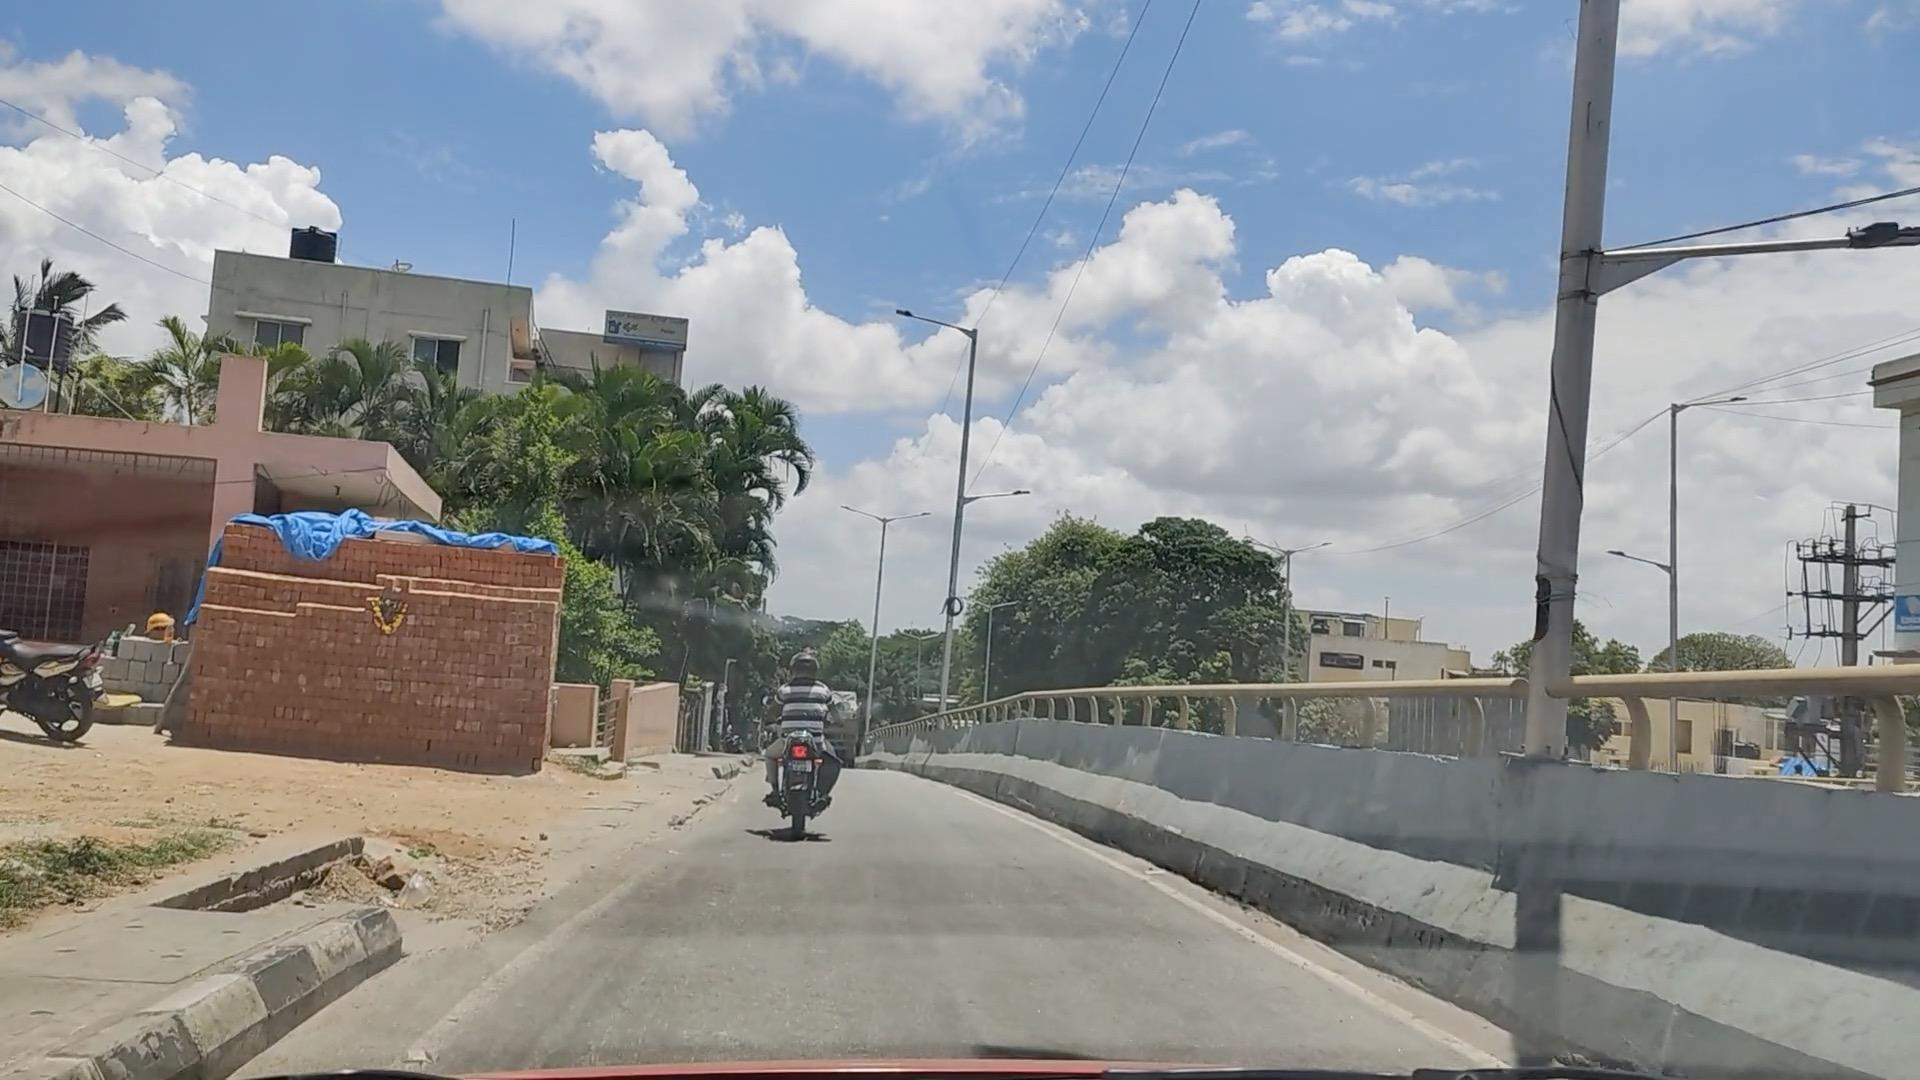LMV: (780, 653, 834, 820)
